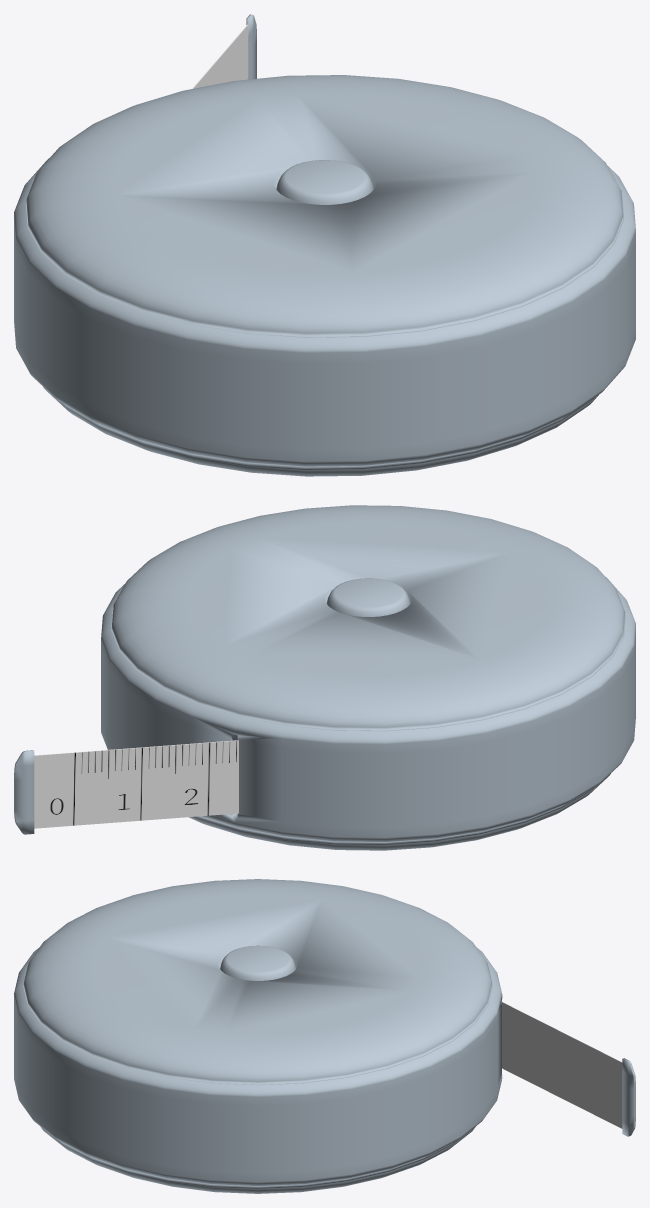
Rendered from major.glb.
3 renders of one model, top to bottom at view 1: azimuth 30°, elevation 25°; view 2: azimuth 150°, elevation 25°; view 3: azimuth 270°, elevation 25°, orthographic. The views are drawn at different scales.
Parts seen in each view (by area): view 1: メジャー, 中, Cube.002; view 2: メジャー, Cube.002, 中, 頭; view 3: メジャー, Cube.002, 中, 頭.
Boxes of the visible parts, <box> form: メジャー: <box>14,75,635,476</box>; 中: <box>276,160,373,204</box>; Cube.002: <box>192,24,248,88</box>; メジャー: <box>101,505,635,850</box>; Cube.002: <box>34,740,238,828</box>; 中: <box>326,578,410,616</box>; 頭: <box>14,750,34,834</box>; メジャー: <box>14,879,502,1193</box>; Cube.002: <box>502,1001,622,1128</box>; 中: <box>220,945,295,980</box>; 頭: <box>622,1058,635,1136</box>.
Size of the model in its own units: 0.36 by 0.126 by 0.4587.
Materials: 2 (1 with a texture image).
